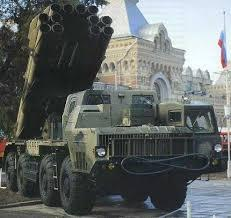MIL_SAM_TEL: (3, 2, 223, 212)
